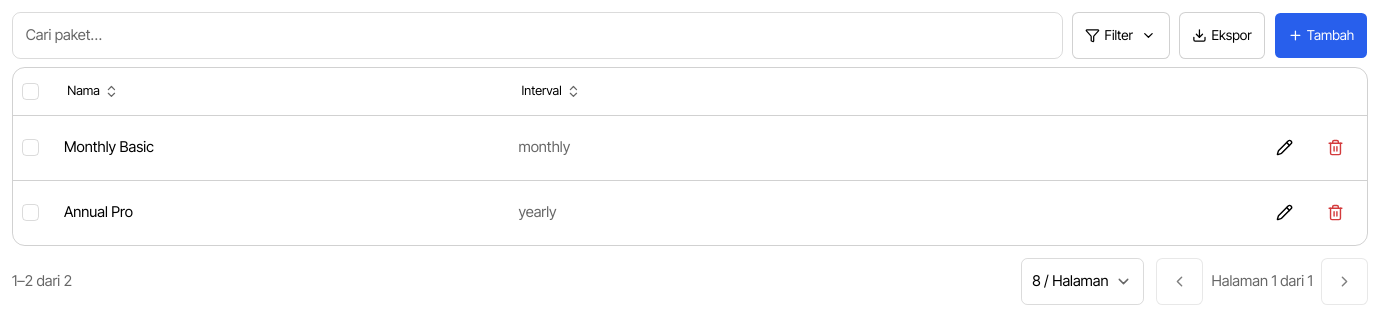
Test: SubscriptionPlansSection › filters plans through the search box
Expected: the text "Monthly Basic" is shown, [64,138,154,156]
Type "Annual" into the search field with placeholder "Cari paket…" at (538, 35), box [12,12,1063,59]
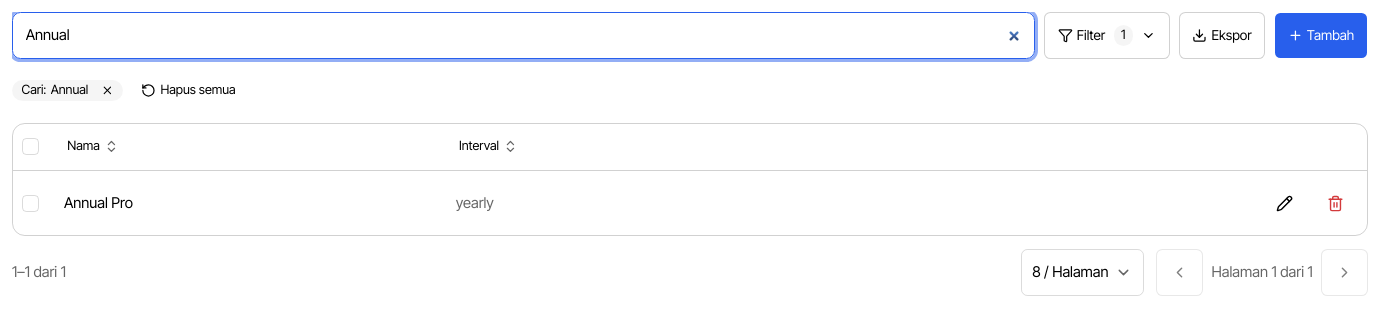
Expected: the text "Annual Pro" is shown, [64,194,133,212]
Result: the text "Monthly Basic" is gone
